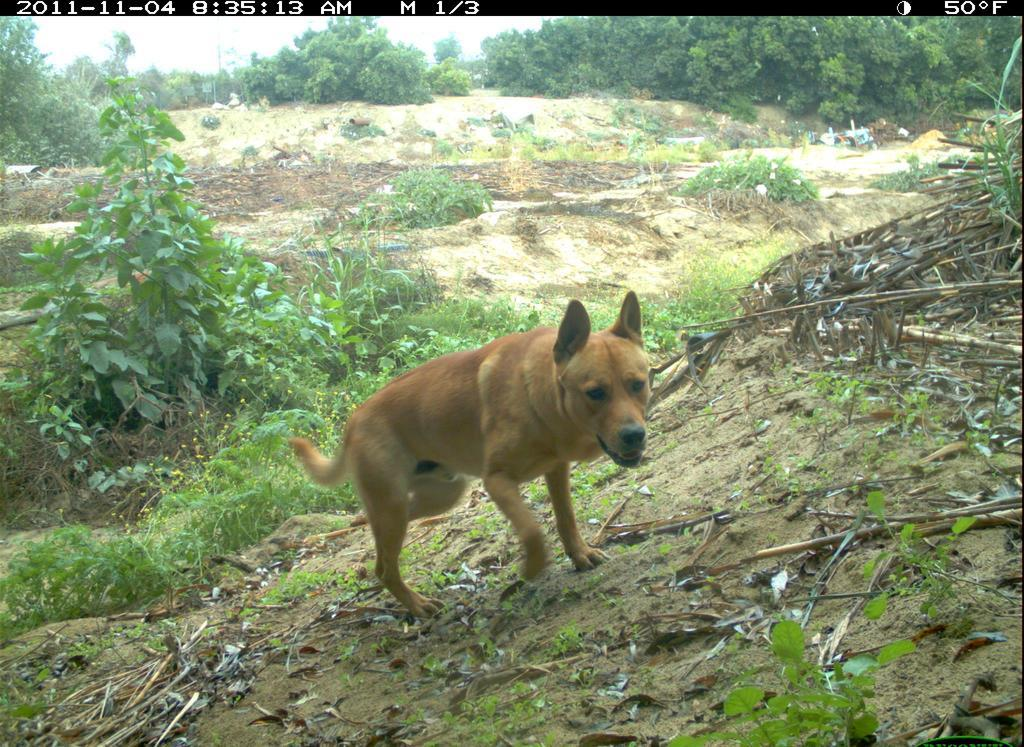dog: (292, 285, 656, 616)
